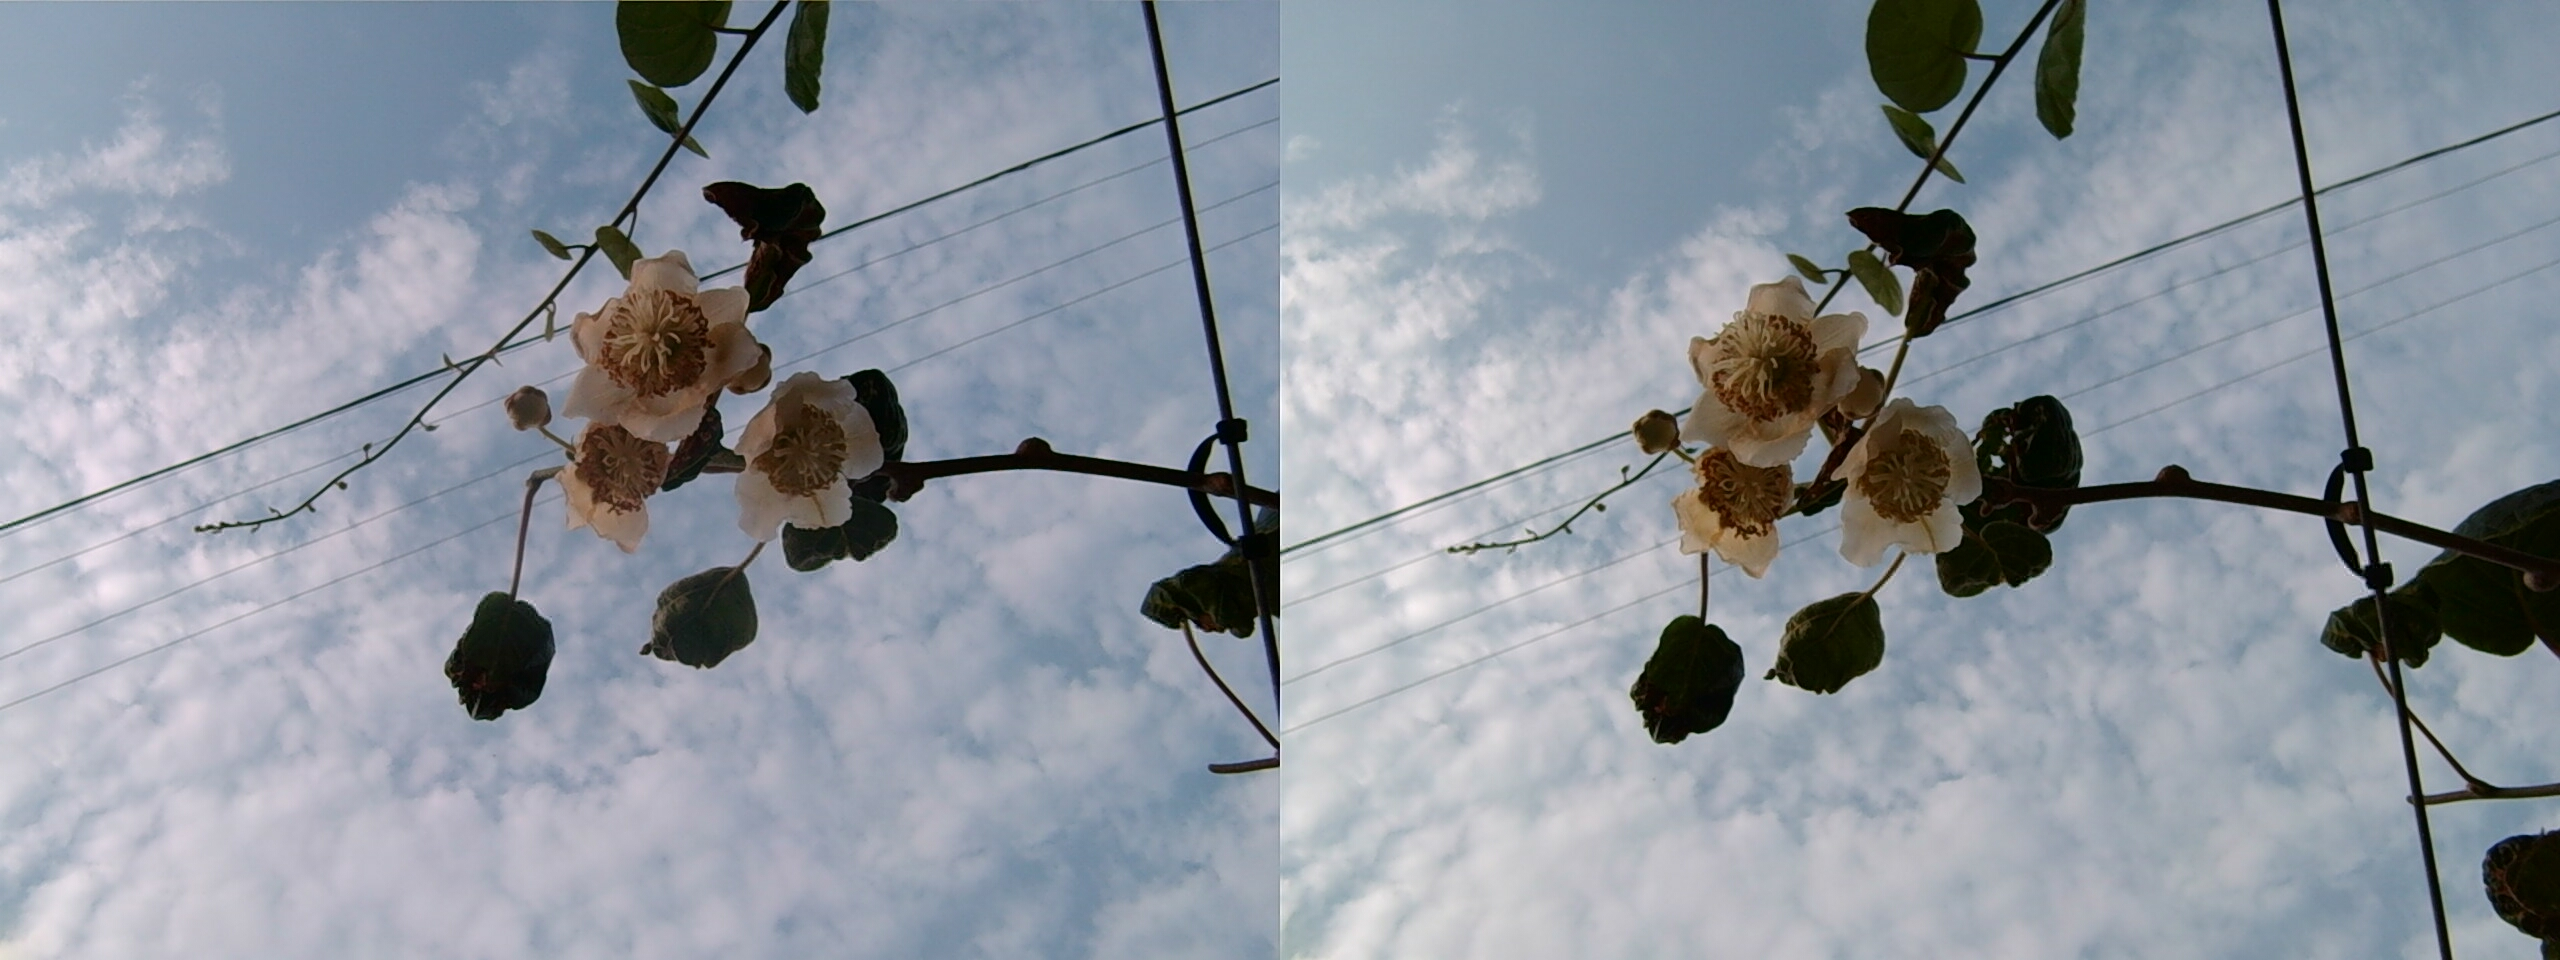flower: (1647, 261, 1878, 464), (545, 230, 767, 433), (709, 358, 909, 550), (513, 385, 723, 544), (1814, 390, 1997, 568), (1651, 421, 1832, 563)
